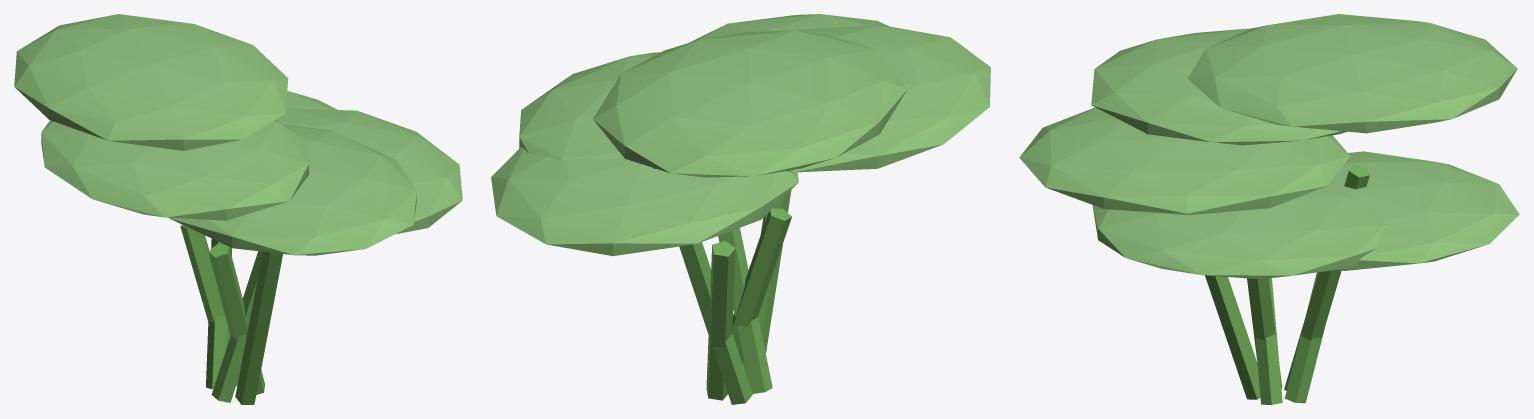
Rendered from dieffenbachia-seguine.glb.
The picture shows the model from 3 angles, left to right: view 1: azimuth 30°, elevation 25°; view 2: azimuth 150°, elevation 25°; view 3: azimuth 270°, elevation 25°; orthographic projection. The views are drawn at different scales.
Parts seen in each view (by area): view 1: blade3, blade2, blade1, blade0, petiole1, petiole0, petiole4, petiole2, petiole3, blade4; view 2: blade3, blade4, blade2, blade0, petiole4, petiole0, petiole3, petiole2, blade1, petiole1; view 3: blade3, blade1, blade0, blade4, blade2, petiole1, petiole3, petiole0, petiole4, petiole2.
Boxes of the visible parts, box(x1,y1,x2,y2) form: blade3: box(14, 14, 288, 150); blade2: box(41, 119, 308, 220); blade1: box(169, 125, 416, 255); blade0: box(276, 108, 462, 234); petiole1: box(235, 251, 282, 404); petiole0: box(208, 244, 265, 394); petiole4: box(180, 225, 238, 386); petiole2: box(211, 251, 262, 402); petiole3: box(206, 239, 231, 389); blade4: box(286, 91, 337, 109); blade3: box(593, 30, 907, 177); blade4: box(491, 147, 798, 255); blade2: box(787, 25, 990, 172); blade0: box(519, 52, 659, 160); petiole4: box(706, 241, 735, 400); petiole0: box(732, 208, 791, 361); petiole3: box(653, 168, 752, 404); petiole2: box(718, 228, 772, 393); blade1: box(689, 14, 889, 42); petiole1: box(742, 190, 791, 375); blade3: box(1188, 14, 1517, 133); blade1: box(1019, 107, 1350, 214); blade0: box(1092, 178, 1386, 279); blade4: box(1333, 151, 1519, 270); blade2: box(1091, 28, 1346, 145); petiole1: box(1205, 275, 1260, 399); petiole3: box(1284, 164, 1369, 390); petiole0: box(1255, 278, 1282, 404); petiole4: box(1284, 272, 1325, 403); petiole2: box(1247, 278, 1282, 388).
Bounding box in the file's own units: 0.4237 × 0.3401 × 0.4832.
